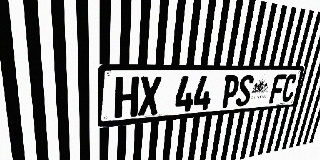4: (174, 76, 196, 113), (192, 75, 214, 111)
C: (280, 74, 298, 102)
F: (269, 74, 287, 103)
H: (114, 77, 139, 118)
P: (220, 75, 240, 108)
S: (235, 75, 255, 107)
X: (138, 76, 162, 116)
